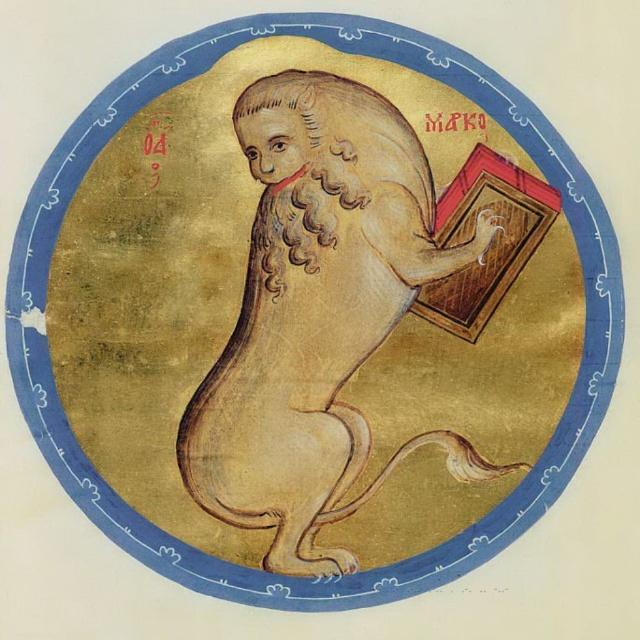book: (427, 121, 566, 366)
fantasy_animal: (178, 68, 402, 581)
